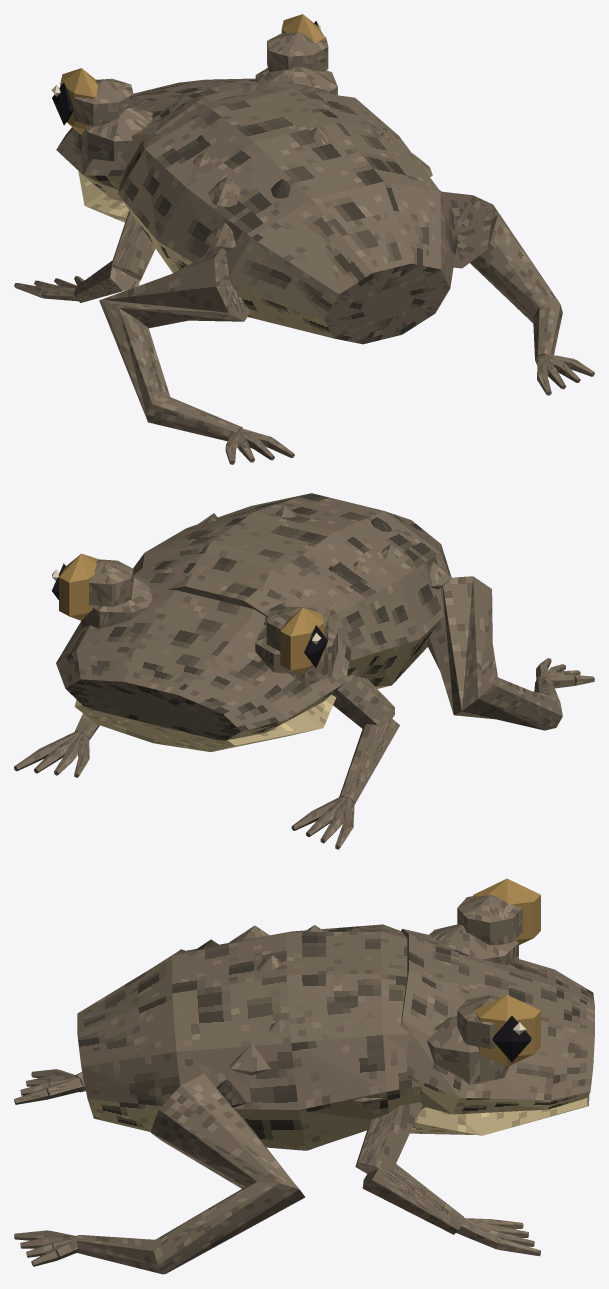
File: mon_odd_bigfrog.glb
3 views of the same model, one above another, from view 1: azimuth 30°, elevation 25°; view 2: azimuth 150°, elevation 25°; view 3: azimuth 270°, elevation 25° (orthographic). The views are drawn at different scales.
Visible parts, largest first — view 1: closed_body; view 2: closed_body; view 3: closed_body.
Boxes of the visible parts, x1=… form: closed_body: x1=14, y1=14, x2=594, y2=464; closed_body: x1=14, y1=493, x2=594, y2=849; closed_body: x1=14, y1=878, x2=594, y2=1274.
Bounding box in the file's own units: 0.9975 × 0.5016 × 1.12.
1 material, 1 textured.
